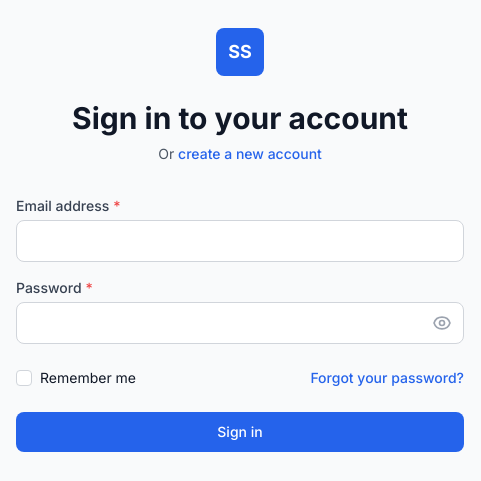
it: LoginForm › shows validation error for invalid email
This screenshot has width=481, height=481.
Type "invalid-email" into the field labelled "Email address*" at (240, 241), box x1=16 y1=220 x2=464 y2=262
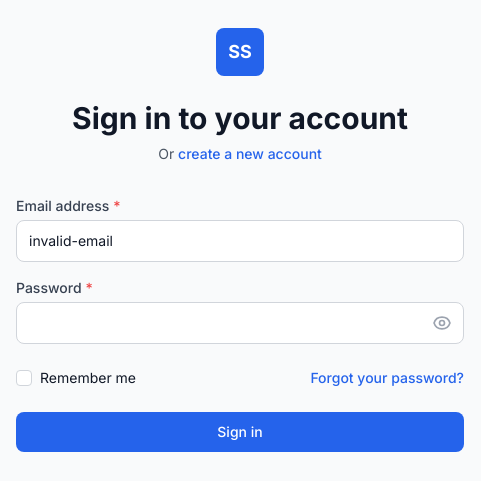
Leave the field labelled "Email address*", box x1=16 y1=220 x2=464 y2=262
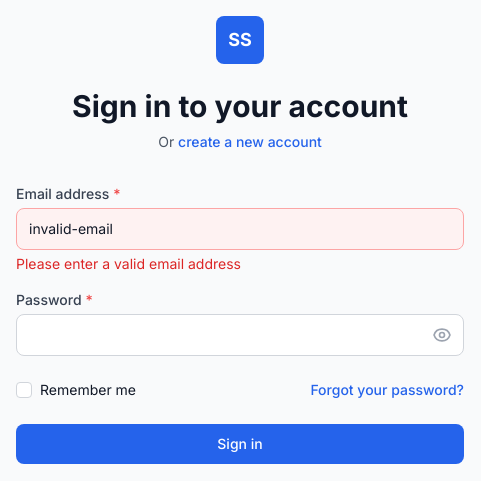
Now the text "Please enter a valid email address" is shown, box x1=16 y1=255 x2=241 y2=272
